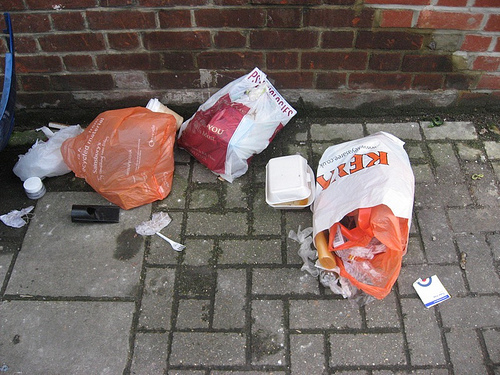litter: (311, 133, 411, 298), (178, 66, 292, 176), (83, 98, 177, 207), (13, 123, 80, 178), (263, 154, 313, 209), (413, 275, 448, 309), (69, 203, 118, 224), (153, 230, 184, 255), (133, 212, 168, 234), (1, 208, 34, 226), (21, 175, 45, 197)
